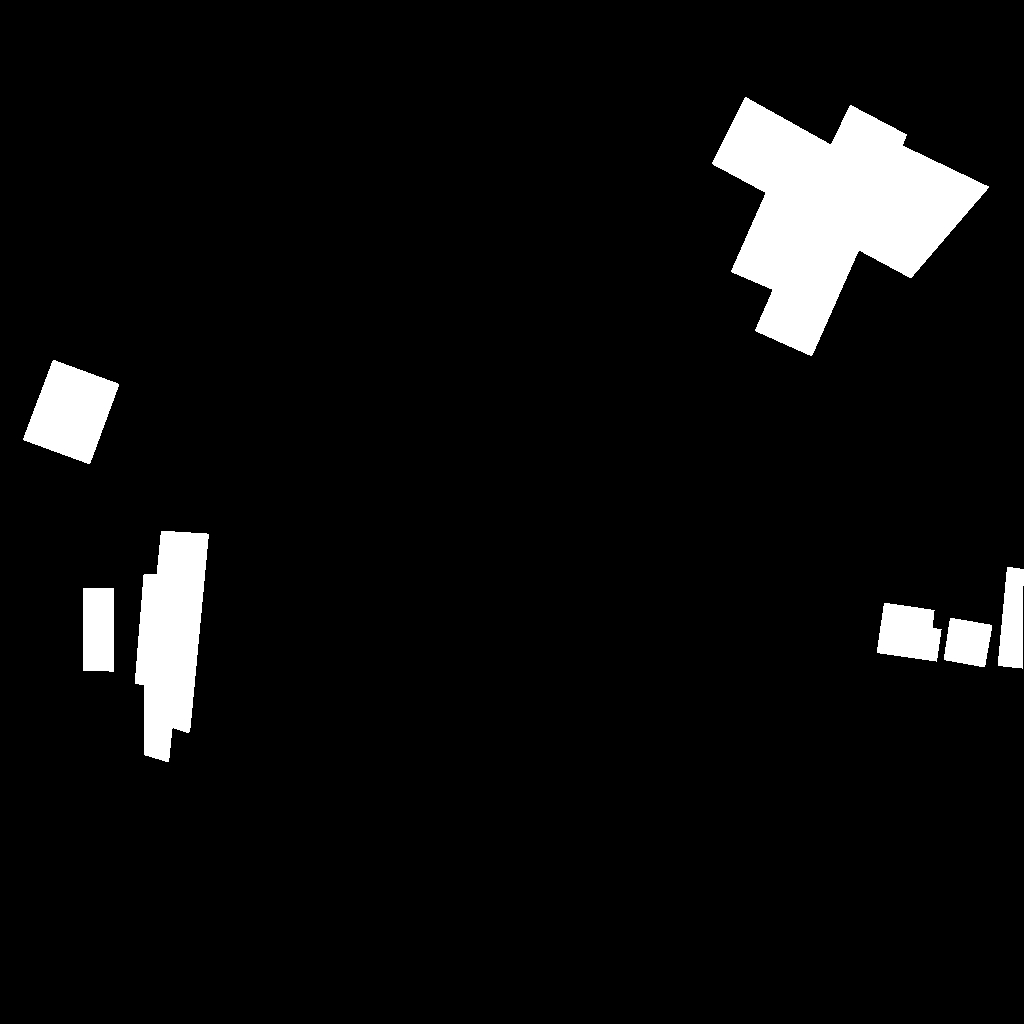building: (712, 97, 990, 357), (135, 531, 210, 763), (23, 360, 120, 465), (877, 603, 942, 662), (83, 588, 115, 672), (998, 567, 1024, 669), (944, 618, 993, 668)
